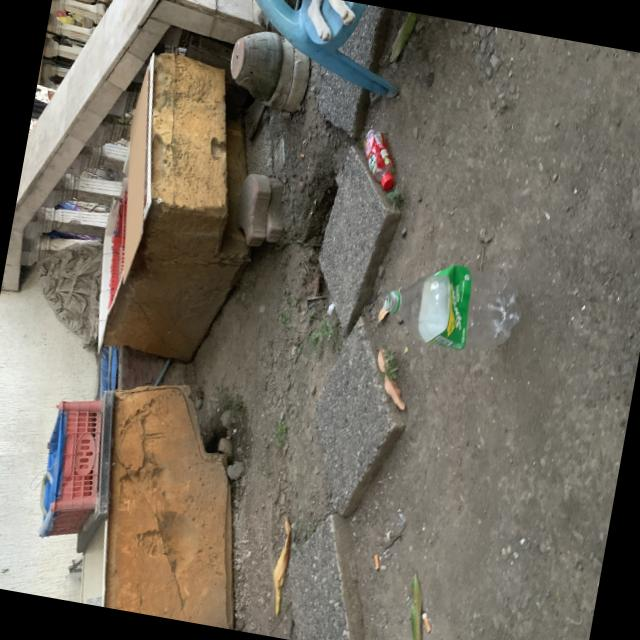Bottle: (384, 264, 520, 349)
